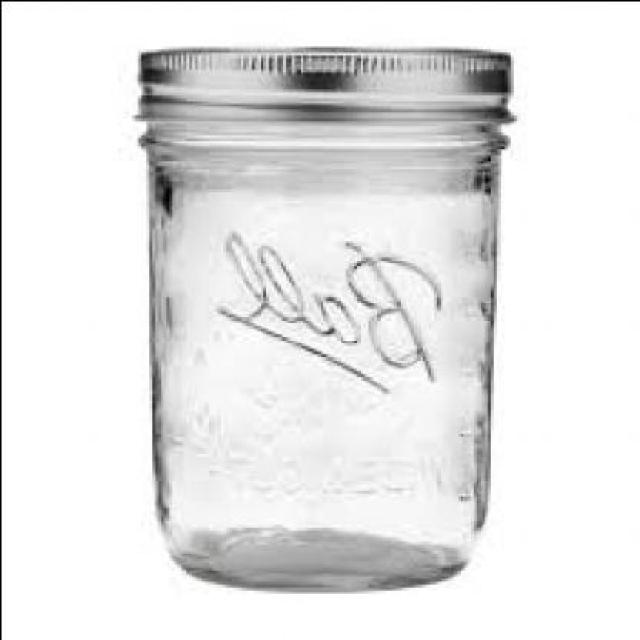GLASS: (136, 106, 518, 588)
METAL: (142, 42, 515, 108)
